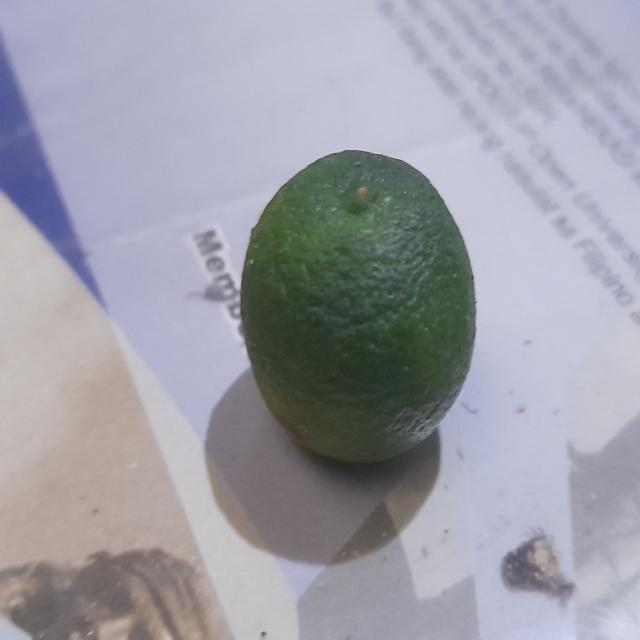heathy: (237, 145, 478, 467)
